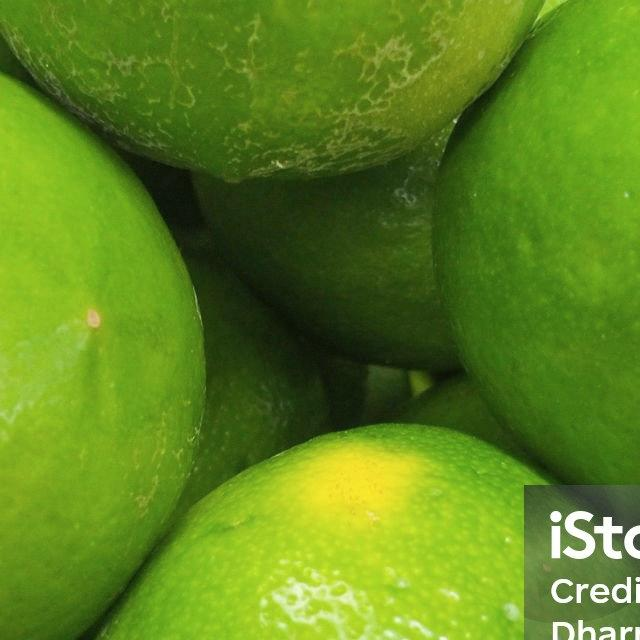lime: (0, 74, 205, 640)
